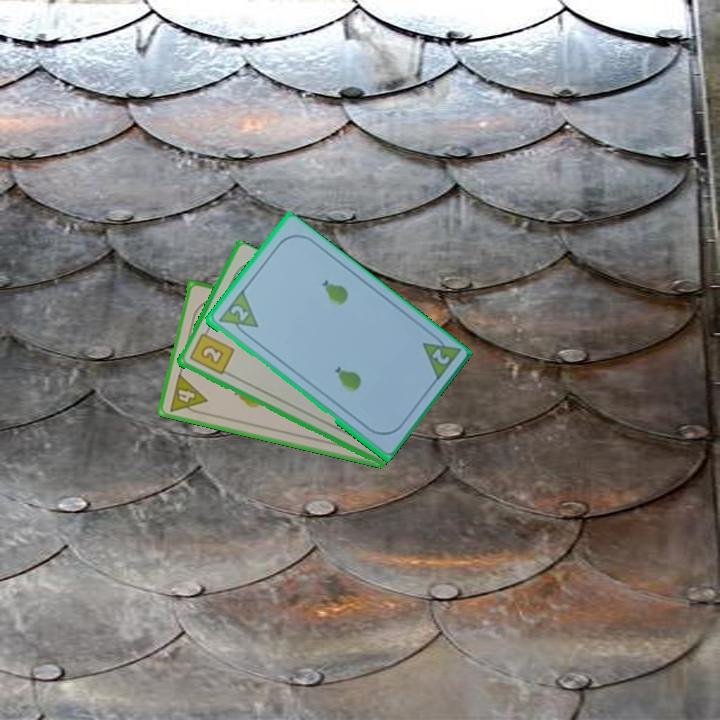2b: (186, 325, 236, 378)
2p: (428, 345, 452, 368), (226, 302, 251, 324)
4p: (166, 370, 210, 418)
